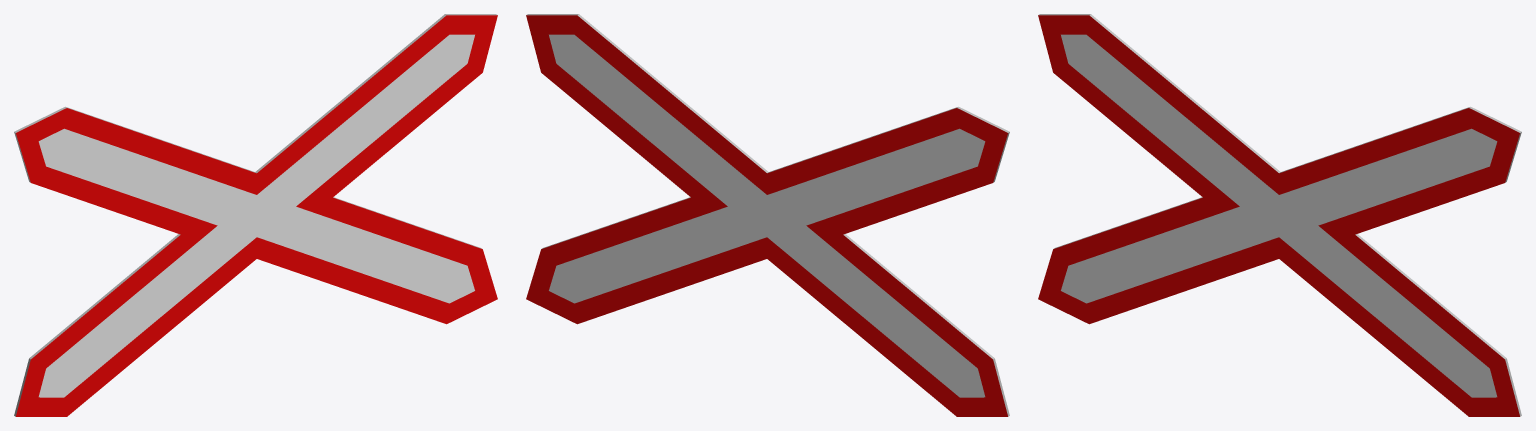
Rendered from w.242a_noiduongsatgiaovuonggocvoiduongbo.glb.
The picture shows the model from 3 angles, left to right: view 1: azimuth 30°, elevation 25°; view 2: azimuth 150°, elevation 25°; view 3: azimuth 330°, elevation 25°; orthographic projection.
Visible parts, largest first — view 1: Solid1; view 2: Solid1; view 3: Solid1.
Boxes of the visible parts, x1=… form: Solid1: x1=14, y1=14, x2=497, y2=416; Solid1: x1=526, y1=14, x2=1009, y2=416; Solid1: x1=1038, y1=14, x2=1521, y2=416.
Bounding box in the file's own units: 0.8 × 0.49 × 0.005.
